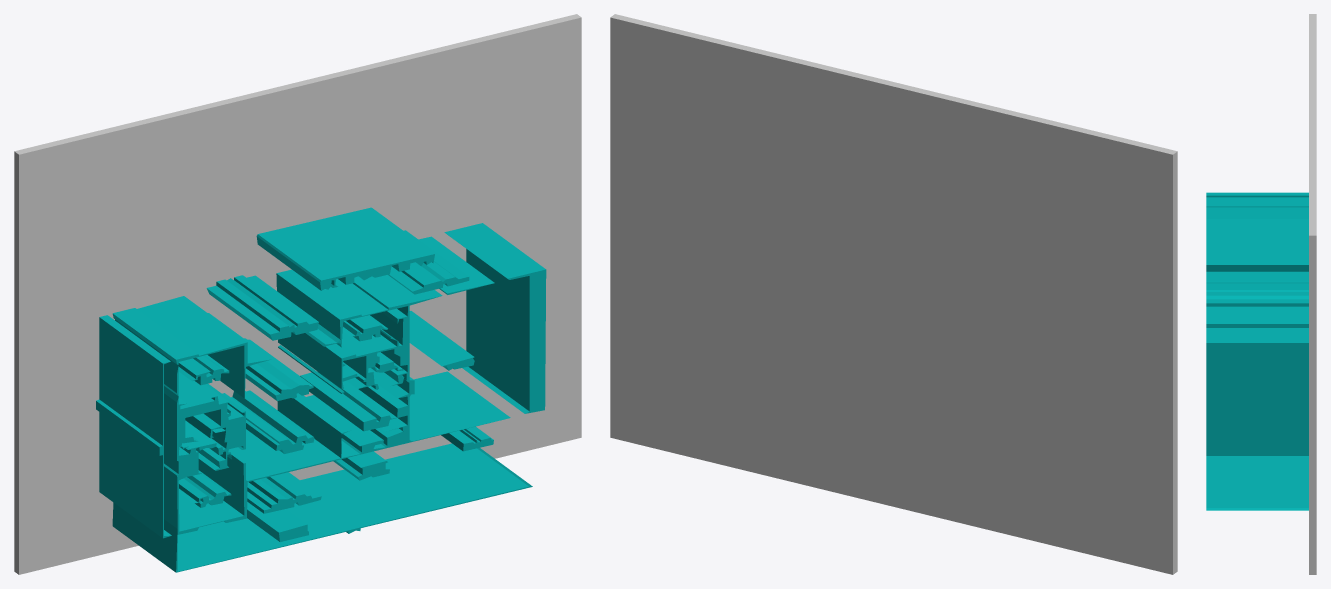
3 views of the same model, side by side, from view 1: azimuth 30°, elevation 25°; view 2: azimuth 150°, elevation 25°; view 3: azimuth 270°, elevation 25° (orthographic). The views are drawn at different scales.
Visible parts, largest first — view 1: world; view 2: world; view 3: world.
Boxes of the visible parts, bbox=[...] form: world: bbox=[14, 14, 581, 574]; world: bbox=[610, 14, 1177, 574]; world: bbox=[1206, 14, 1316, 574].
Bounding box in the file's own units: 10.23 × 7.3 × 2.15.
